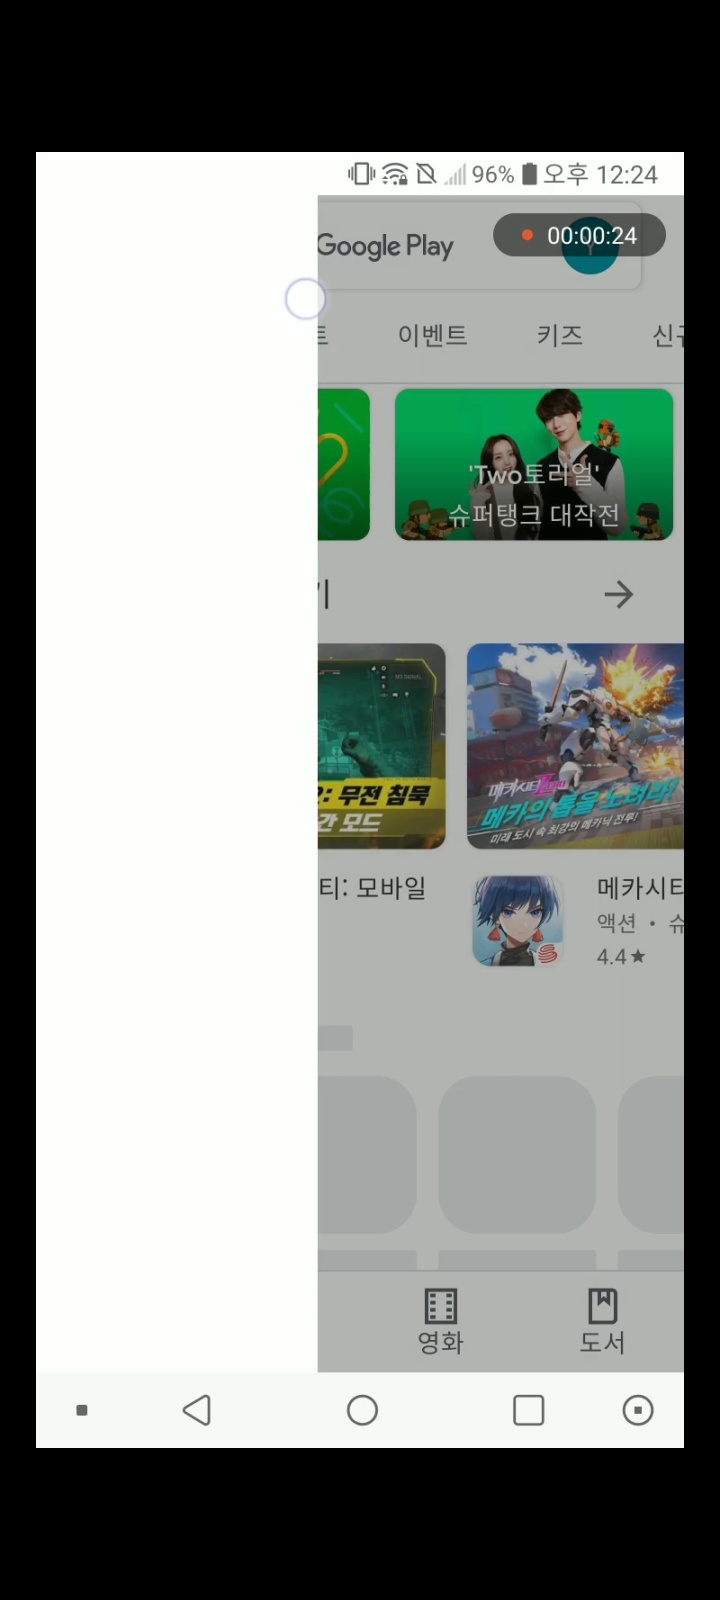Cursor: (282, 278, 328, 323)
